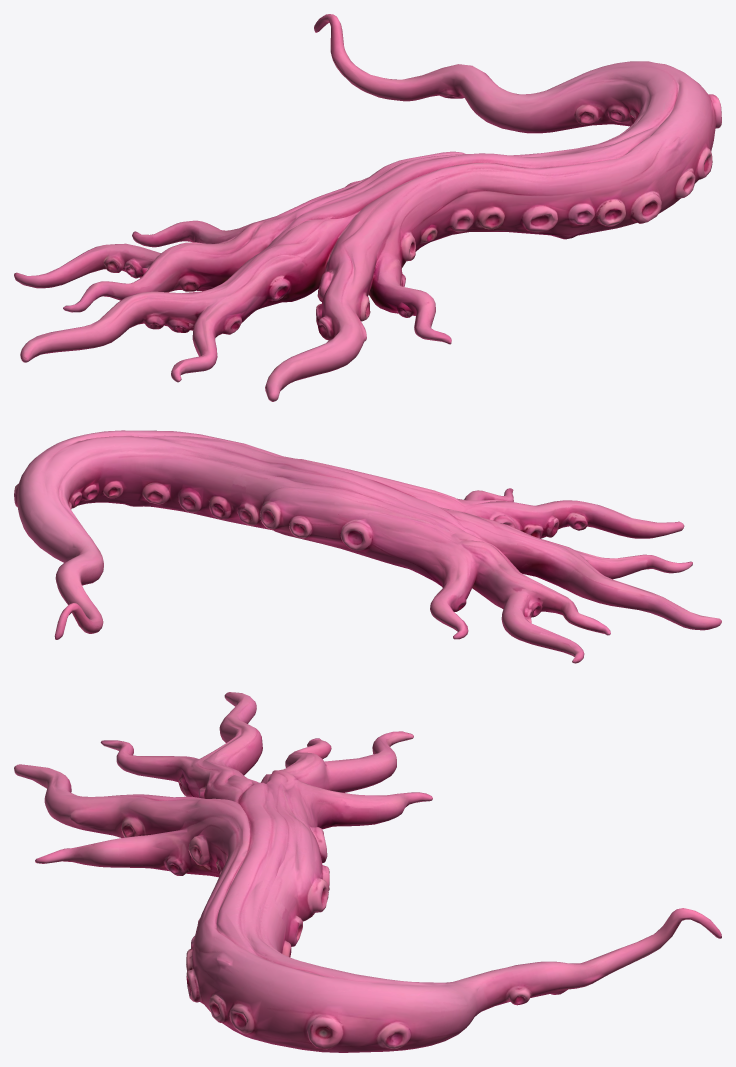
Rendered from pink_root.glb.
The picture shows the model from 3 angles, top to bottom: view 1: azimuth 30°, elevation 25°; view 2: azimuth 150°, elevation 25°; view 3: azimuth 270°, elevation 25°; orthographic projection. The views are drawn at different scales.
Visible parts, largest first — view 1: node_0; view 2: node_0; view 3: node_0.
Part boxes in pixels (x1=…): node_0: x1=14, y1=14, x2=721, y2=401; node_0: x1=14, y1=430, x2=721, y2=663; node_0: x1=14, y1=692, x2=721, y2=1052.
Size of the model in its own units: 1.14 by 0.1309 by 0.9065.
Materials: 1 (1 with a texture image).
